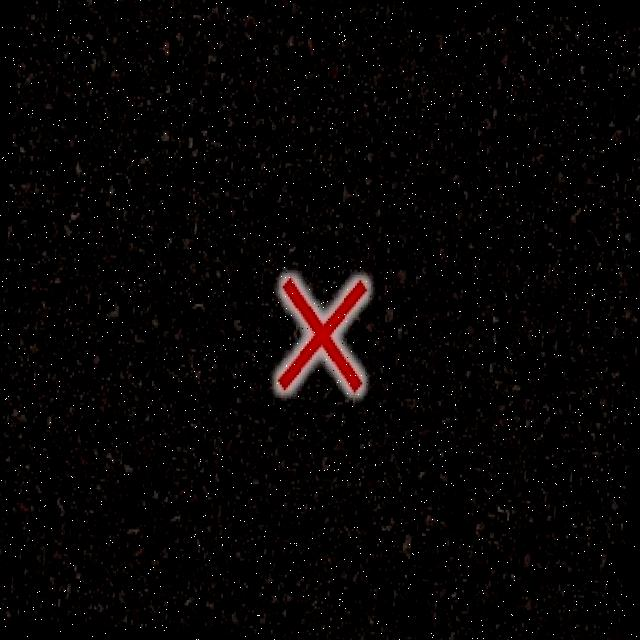x_marker: (274, 274, 368, 394)
